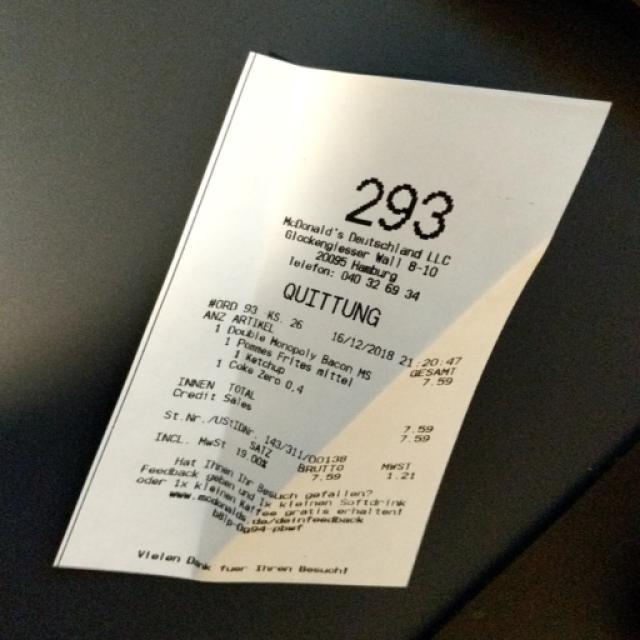document: (55, 54, 610, 586)
